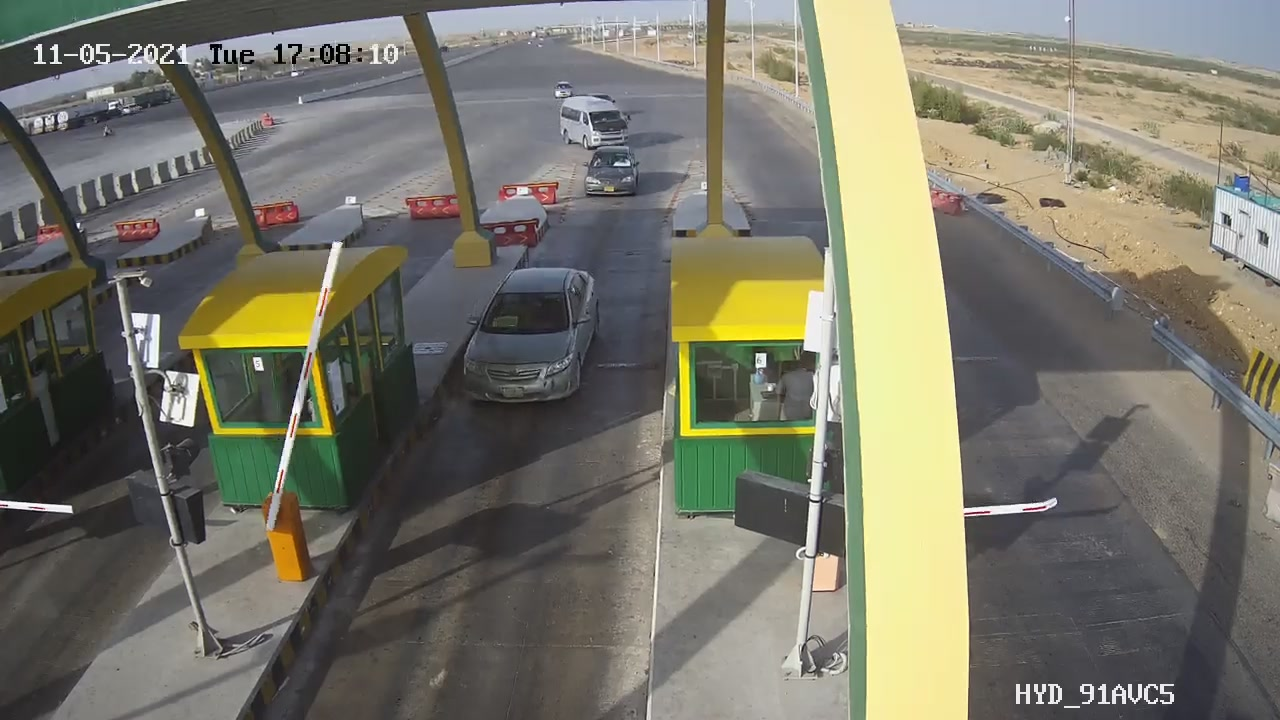F1: (437, 255, 620, 422)
